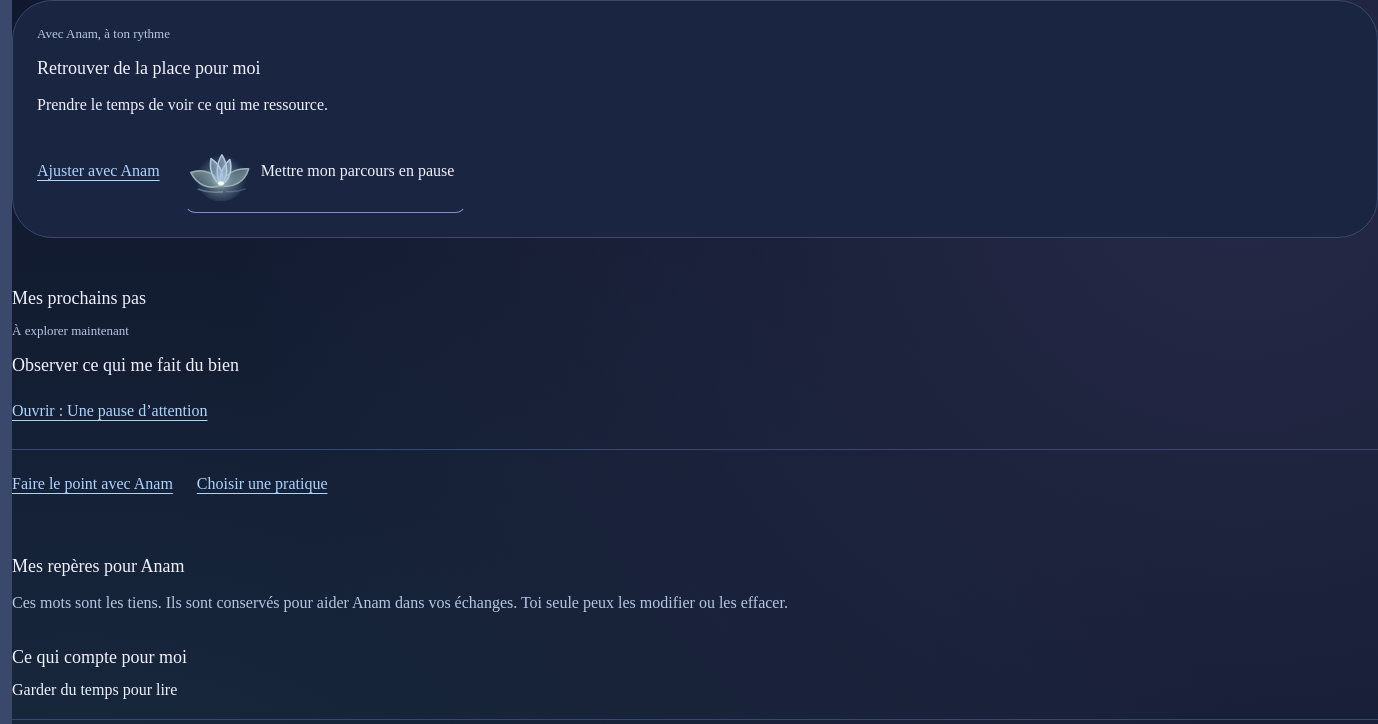
Test: les repères et la pause restent sous la main de l’utilisatrice › reçoit la pause du serveur et bloque les doubles soumissions
The width and height of the screenshot is (1378, 724).
What coordinates should you click on to do the following:
click the button "Mettre mon parcours en pause"
I would click on:
 (325, 172)
Its box is top-left (184, 130), bottom-right (467, 212).
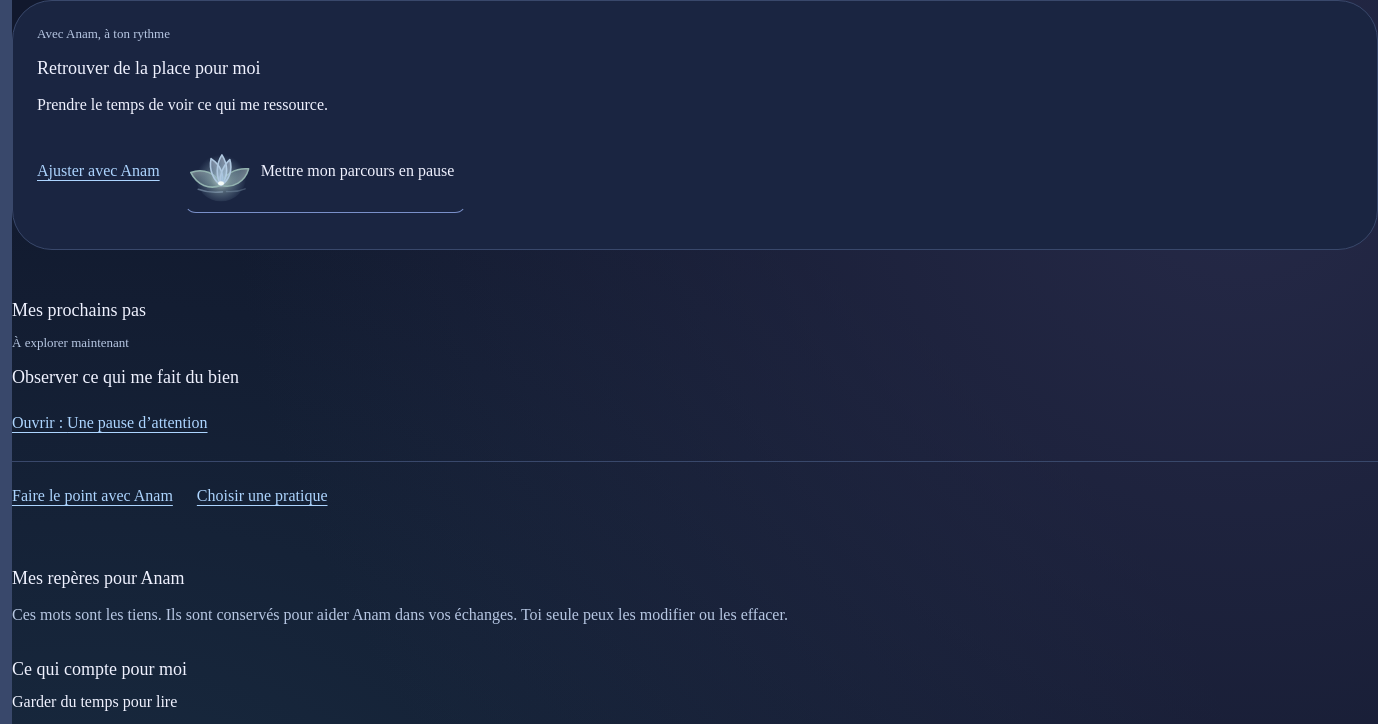
What coordinates should you click on to do the following:
click the button "Mettre mon parcours en pause"
I would click on:
 (325, 172)
Its box is top-left (184, 130), bottom-right (467, 212).
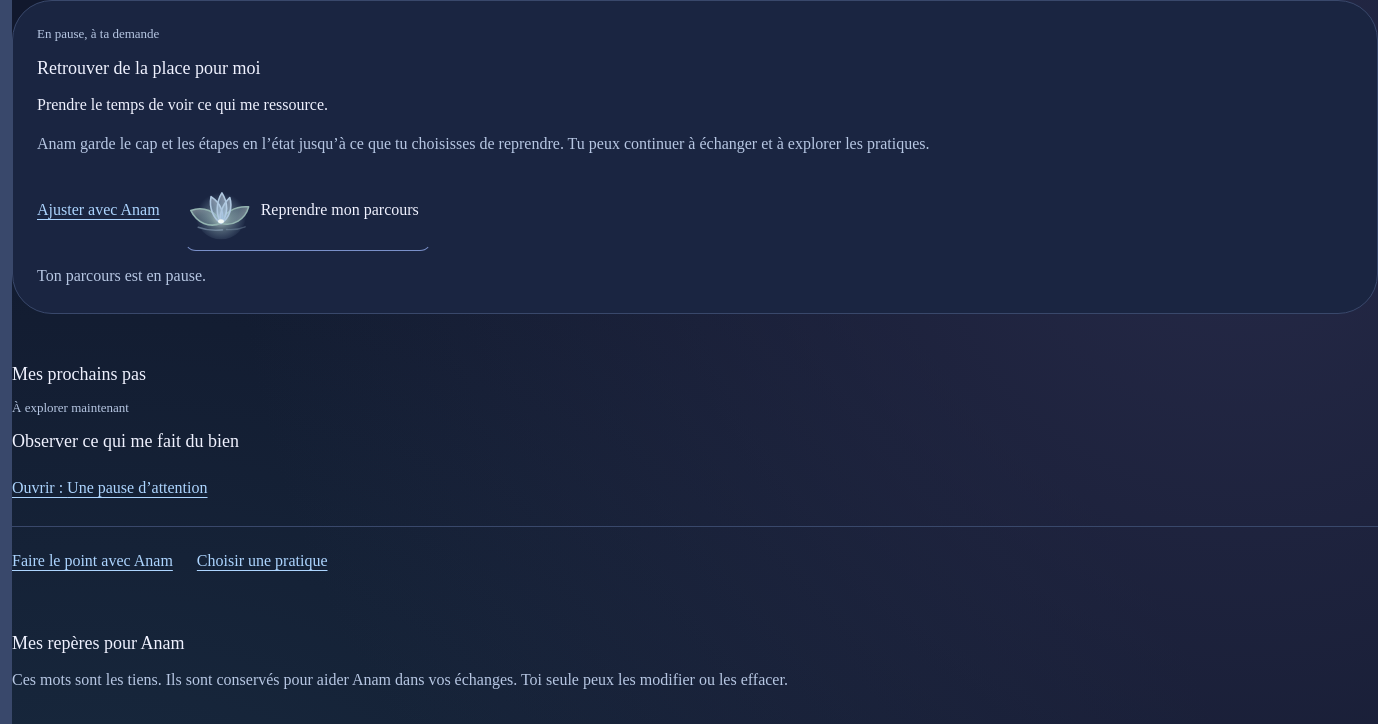
Expected: the text "En pause, à ta demande" is shown, top-left (37, 26), bottom-right (159, 41)
Expected: the button "Reprendre mon parcours" is shown, top-left (184, 169), bottom-right (432, 251)
